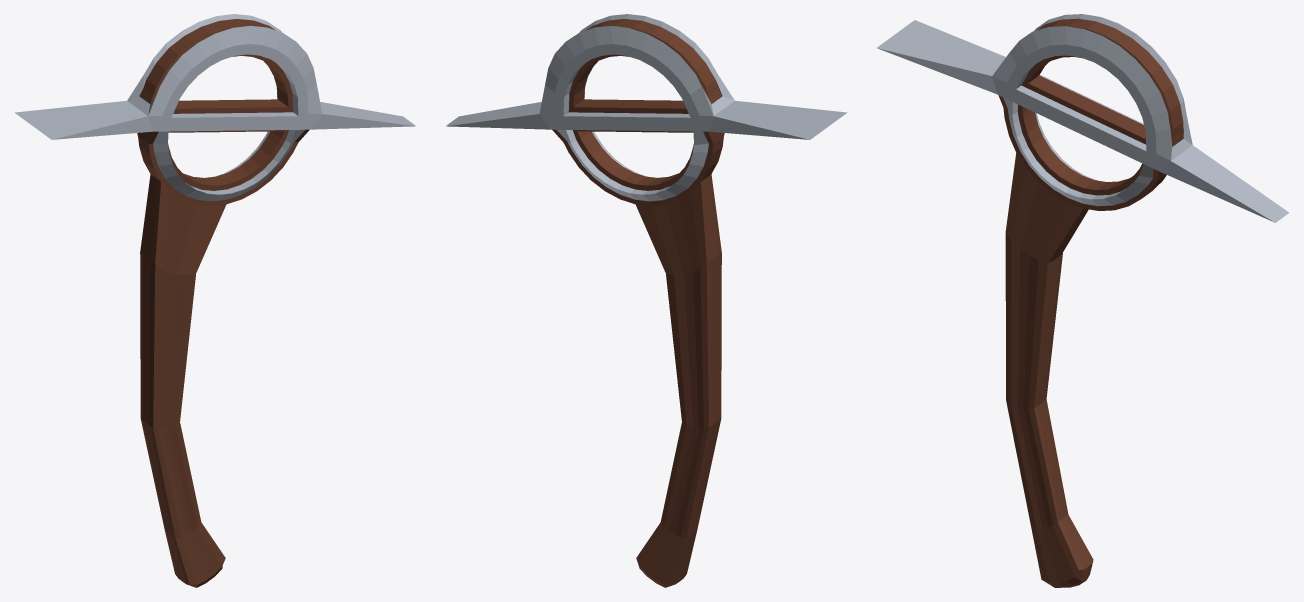
Rendered from pickaxe 1 Fagerone.fbx.
The picture shows the model from 3 angles, left to right: view 1: azimuth 30°, elevation 25°; view 2: azimuth 150°, elevation 25°; view 3: azimuth 330°, elevation 25°; orthographic projection. The views are drawn at different scales.
Visible parts, largest first — view 1: Cylinder.001; view 2: Cylinder.001; view 3: Cylinder.001.
Boxes of the visible parts, <box> form: Cylinder.001: <box>15,14,415,587</box>; Cylinder.001: <box>446,14,847,587</box>; Cylinder.001: <box>877,14,1289,587</box>.
Size of the model in its own units: 3.14 by 4.43 by 0.5395.
Materials: 1 (1 with a texture image).
